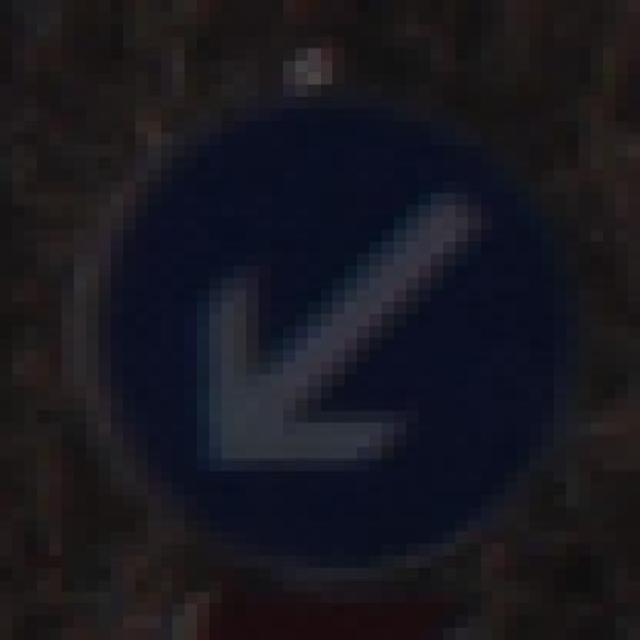Keep-Left: (62, 61, 590, 604)
